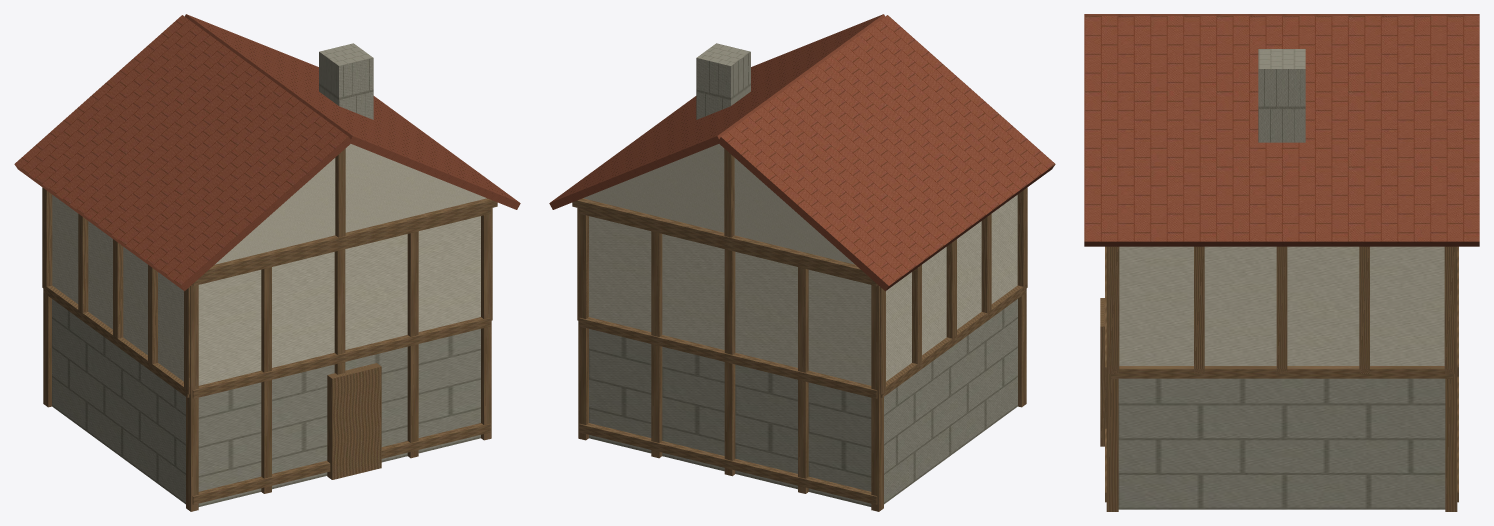
The picture shows the model from 3 angles, left to right: view 1: azimuth 30°, elevation 25°; view 2: azimuth 150°, elevation 25°; view 3: azimuth 270°, elevation 25°; orthographic projection. The views are drawn at different scales.
Parts seen in each view (by area): view 1: house-roof, house-plaster, house-stone, house-wood; view 2: house-roof, house-plaster, house-stone, house-wood; view 3: house-roof, house-stone, house-plaster, house-wood.
Part boxes in pixels (bbox=[...]): house-roof: bbox=[14, 14, 520, 291]; house-plaster: bbox=[52, 144, 486, 385]; house-stone: bbox=[52, 43, 480, 506]; house-wood: bbox=[42, 148, 497, 511]; house-roof: bbox=[549, 14, 1055, 291]; house-plaster: bbox=[583, 144, 1017, 385]; house-stone: bbox=[589, 43, 1017, 506]; house-wood: bbox=[572, 148, 1027, 511]; house-roof: bbox=[1084, 14, 1479, 246]; house-stone: bbox=[1118, 49, 1445, 509]; house-plaster: bbox=[1119, 246, 1444, 365]; house-wood: bbox=[1100, 246, 1458, 511].
Bounding box in the file's own units: 7.88 × 7.7 × 6.7.
Materials: 4 (4 with a texture image).
